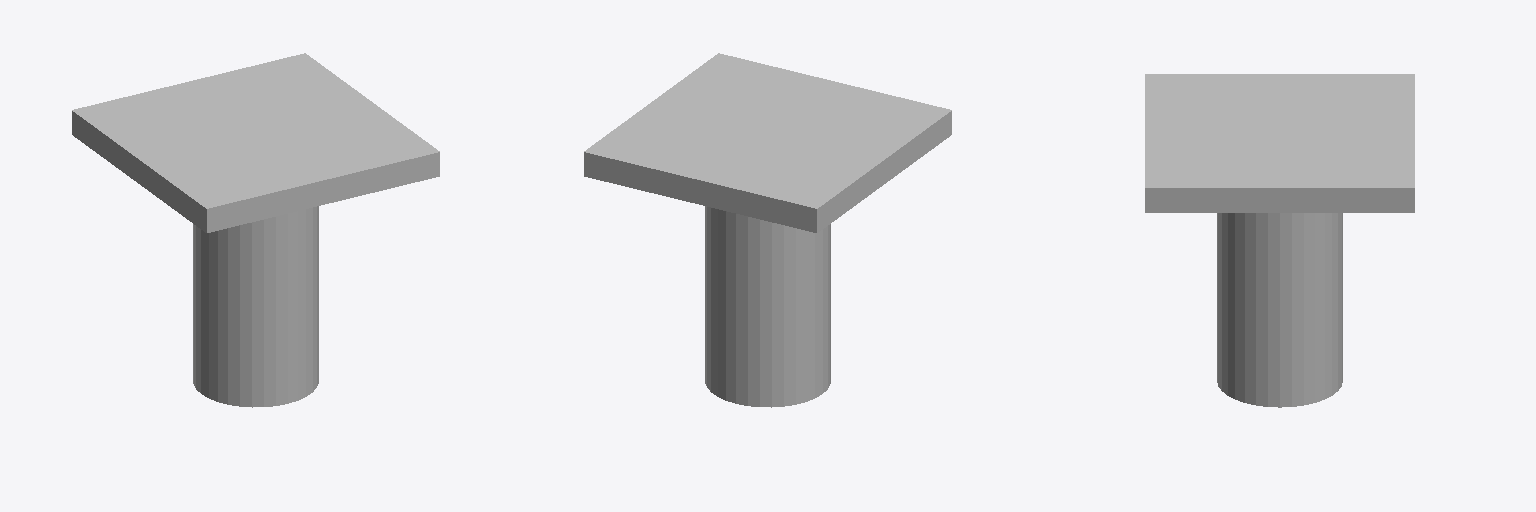
The model's file is DirectionalLight.obj.
The picture shows the model from 3 angles: view 1: azimuth 30°, elevation 25°; view 2: azimuth 150°, elevation 25°; view 3: azimuth 270°, elevation 25°; orthographic projection.
Visible parts, largest first — view 1: Cone; view 2: Cone; view 3: Cone.
Boxes of the visible parts, x1,y1,x2,y2 form: Cone: [72, 53, 439, 407]; Cone: [584, 53, 951, 407]; Cone: [1145, 74, 1414, 407].
Bounding box in the file's own units: 0.6 × 0.6126 × 0.6.